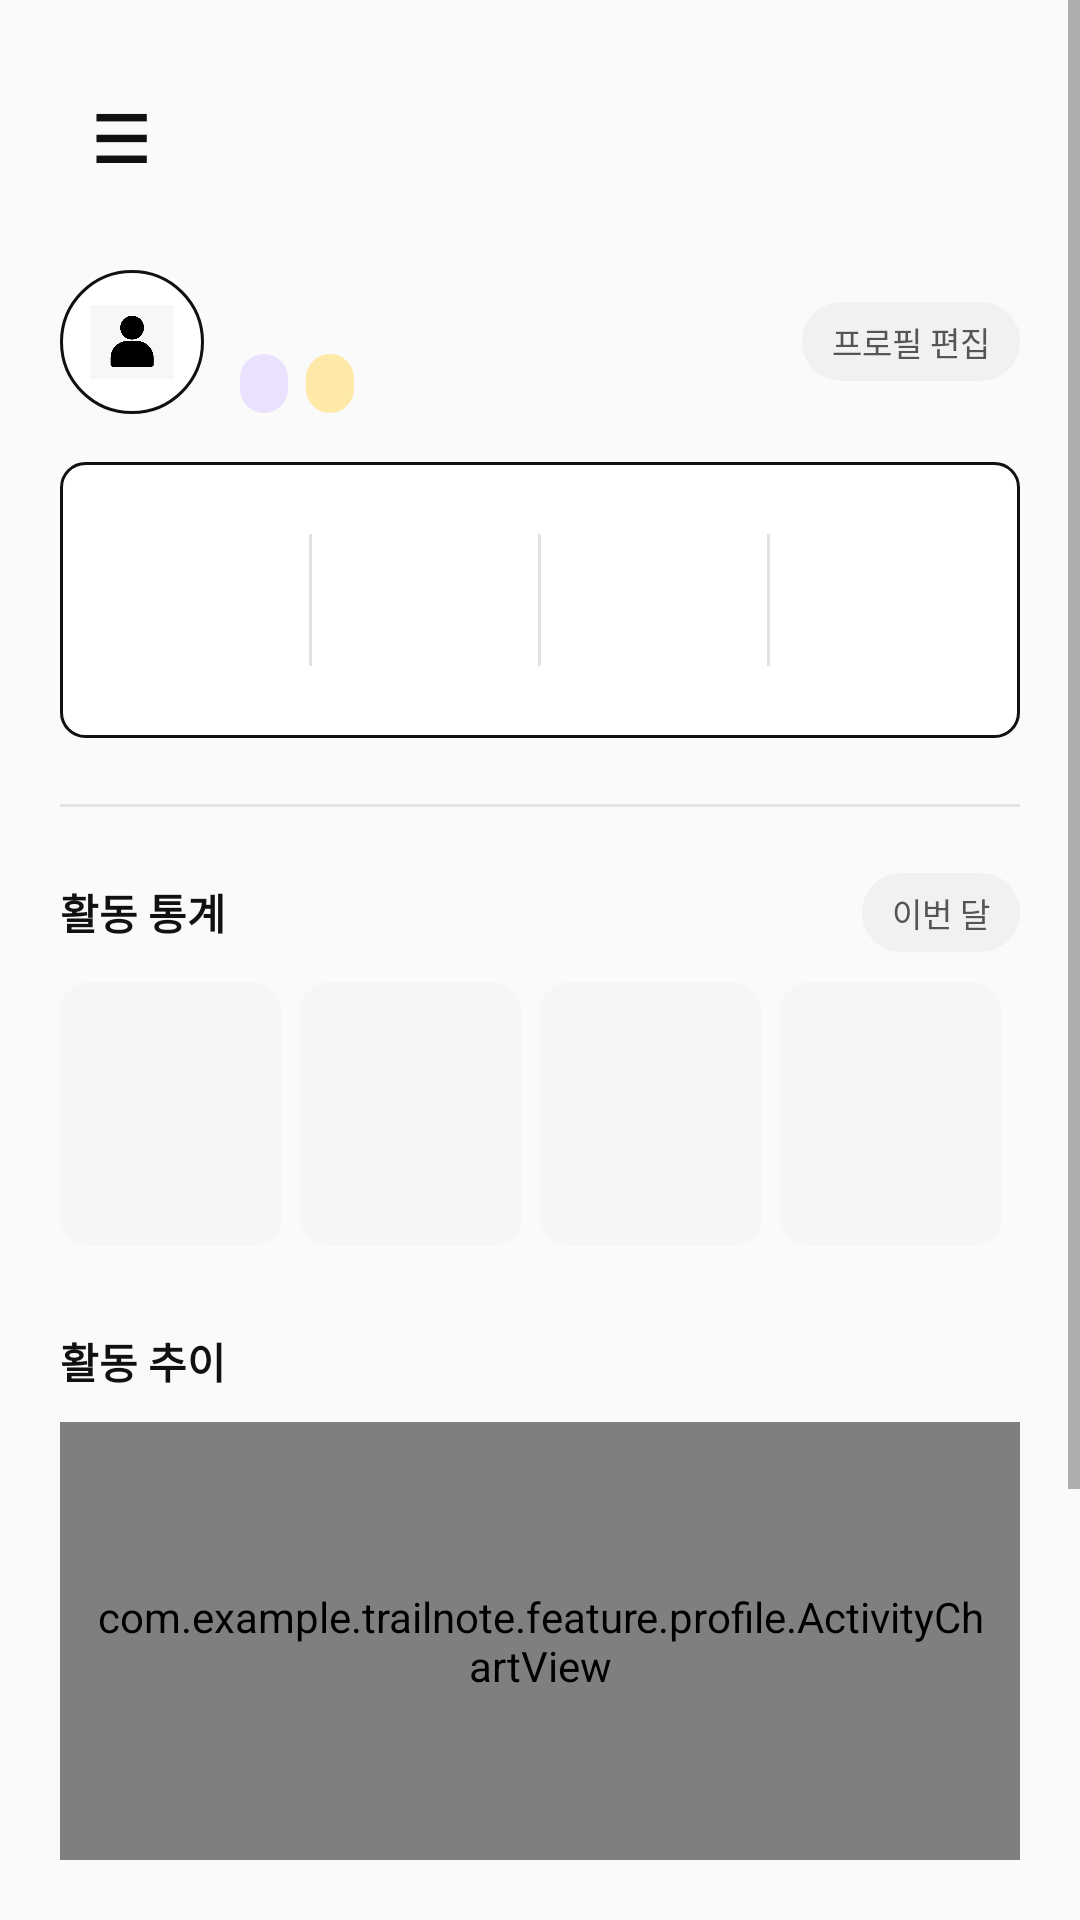

Screen size 1080 × 1920. Icon name, then its box in pixels as (x1=x1, y1=y1, x2=x2, y2=y2):
프로필: (x1=60, y1=270, x2=204, y2=414)
